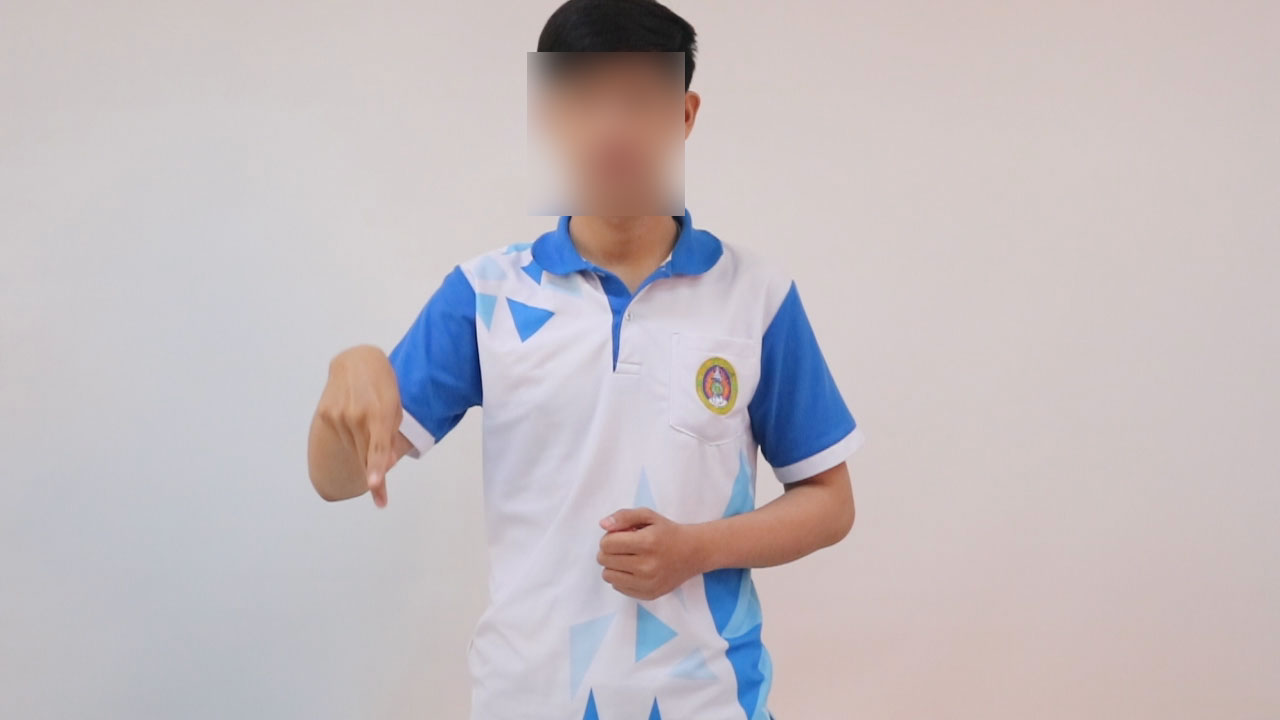por: (307, 328, 416, 519)
